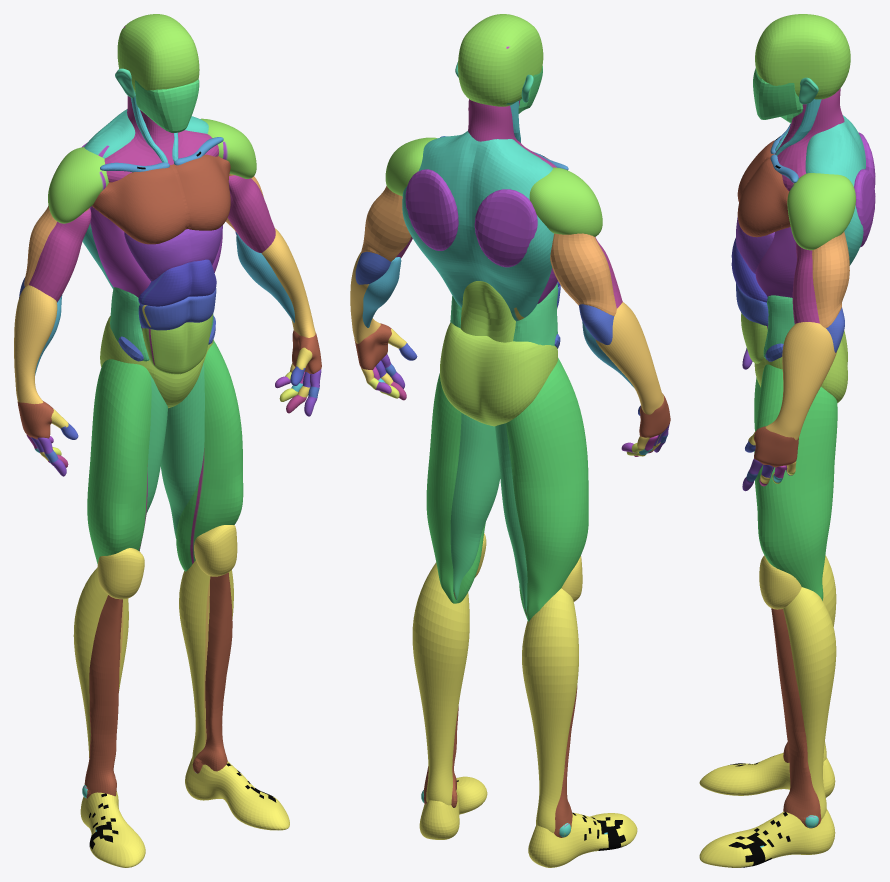
3 renders of one model, left to right at view 1: azimuth 30°, elevation 25°; view 2: azimuth 150°, elevation 25°; view 3: azimuth 270°, elevation 25°, orthographic. The views are drawn at different scales.
Parts seen in each view (by area): view 1: Cube.051_0, Cube.032_24, Cube.026_19, Cube.034_25, Cube.038_27, Cube.031_23, Cube.074_45, Cube.079_47, Cube.014_9, Cube.004_3, Cube.036_26, Cube.023_16 (+14 smaller); view 2: Cube.051_0, Cube.034_25, Cube.003_2, Cube.024_17, Cube.031_23, Cube.029_22, Cube.014_9, Cube.040_28, Cube.038_27, Cube.004_3, Cube.074_45, Cube.028_21 (+7 smaller); view 3: Cube.051_0, Cube.038_27, Cube.034_25, Cube.014_9, Cube.074_45, Cube.032_24, Cube.004_3, Cube.026_19, Cube.003_2, Cube.040_28, Cube.023_16, Cube.008_5 (+15 smaller).
Boxes of the visible parts, x1,y1,x2,y2 form: Cube.051_0: (87, 340, 243, 571); Cube.032_24: (84, 572, 232, 798); Cube.026_19: (92, 154, 230, 244); Cube.034_25: (73, 560, 233, 763); Cube.038_27: (80, 757, 289, 867); Cube.031_23: (147, 362, 204, 537); Cube.074_45: (14, 228, 315, 404); Cube.079_47: (29, 175, 275, 302); Cube.014_9: (117, 14, 199, 91); Cube.004_3: (48, 118, 256, 223); Cube.036_26: (97, 525, 237, 599); Cube.023_16: (104, 96, 218, 182); Cube.051_0: (426, 358, 588, 621); Cube.034_25: (412, 562, 578, 833); Cube.003_2: (402, 131, 553, 321); Cube.024_17: (440, 322, 557, 426); Cube.031_23: (450, 412, 527, 616); Cube.029_22: (405, 169, 537, 267); Cube.014_9: (458, 14, 543, 106); Cube.040_28: (361, 186, 616, 315); Cube.038_27: (419, 776, 637, 867); Cube.004_3: (385, 137, 602, 236); Cube.074_45: (350, 252, 663, 414); Cube.028_21: (460, 281, 515, 342); Cube.051_0: (754, 364, 837, 600); Cube.038_27: (699, 753, 835, 867); Cube.034_25: (783, 555, 836, 819); Cube.014_9: (755, 14, 850, 99); Cube.074_45: (765, 322, 837, 440); Cube.032_24: (771, 608, 821, 828); Cube.004_3: (787, 173, 855, 250); Cube.026_19: (737, 140, 790, 237); Cube.003_2: (805, 115, 865, 265); Cube.040_28: (812, 231, 849, 328); Cube.023_16: (775, 88, 844, 190); Cube.008_5: (755, 227, 796, 297).
Bounding box in the file's own units: 1.9 × 4.92 × 0.9715.
Materials: 1 (1 with a texture image).
